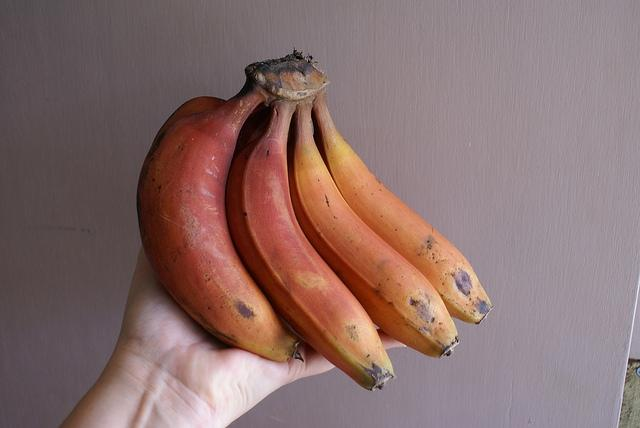banana: (227, 97, 395, 392), (136, 78, 306, 363), (287, 104, 460, 358), (312, 93, 493, 325), (148, 96, 226, 152)
